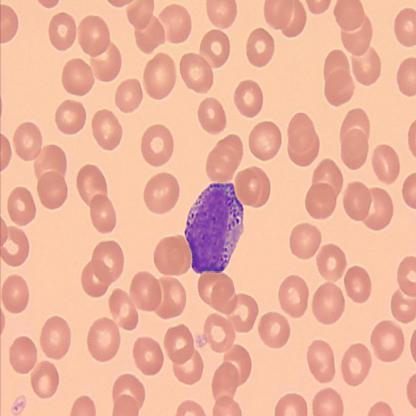Myelocyte: (185, 180, 243, 275)
